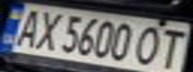0: (112, 20, 139, 64), (93, 18, 118, 61)
5: (54, 12, 84, 55)
6: (75, 15, 100, 57)
A: (9, 6, 45, 48)
O: (130, 24, 169, 66)
T: (151, 26, 190, 70)
X: (27, 8, 66, 52)
